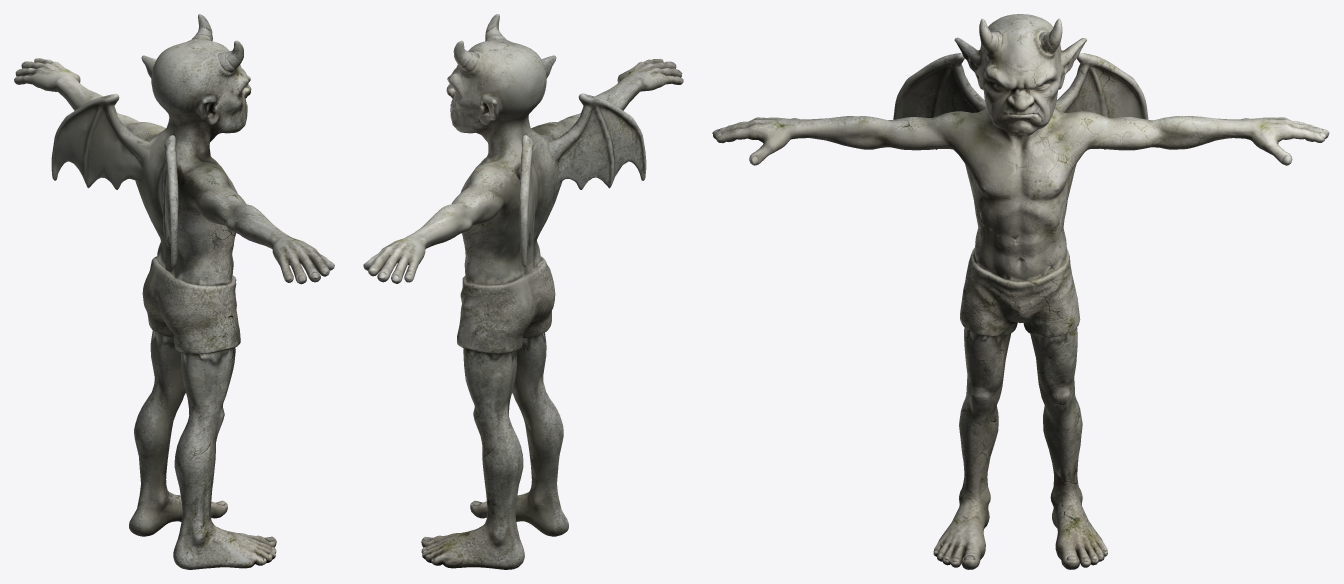
File: the-gargoyle.glb
3 views of the same model, side by side, from view 1: azimuth 30°, elevation 25°; view 2: azimuth 150°, elevation 25°; view 3: azimuth 270°, elevation 25° (orthographic). The views are drawn at different scales.
Visible parts, largest first — view 1: 04-gargoyle; view 2: 04-gargoyle; view 3: 04-gargoyle.
Part boxes in pixels (<box>): 04-gargoyle: <box>14,14,334,569</box>; 04-gargoyle: <box>363,14,683,569</box>; 04-gargoyle: <box>712,14,1329,569</box>.
Bounding box in the file's own units: 0.2694 × 0.9449 × 0.9799.
Materials: 1 (1 with a texture image).
